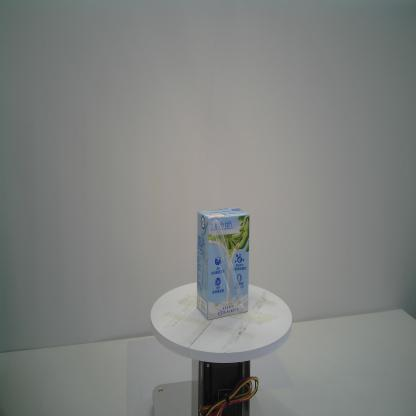Milk: (196, 206, 251, 321)
